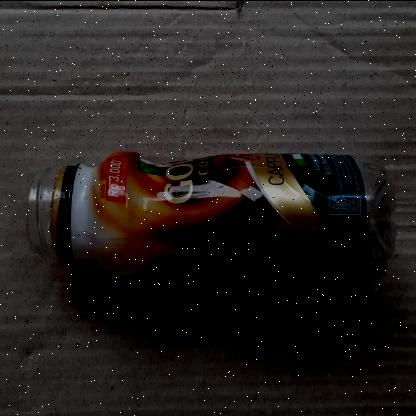Plastic Bottle: (0, 124, 382, 290)
